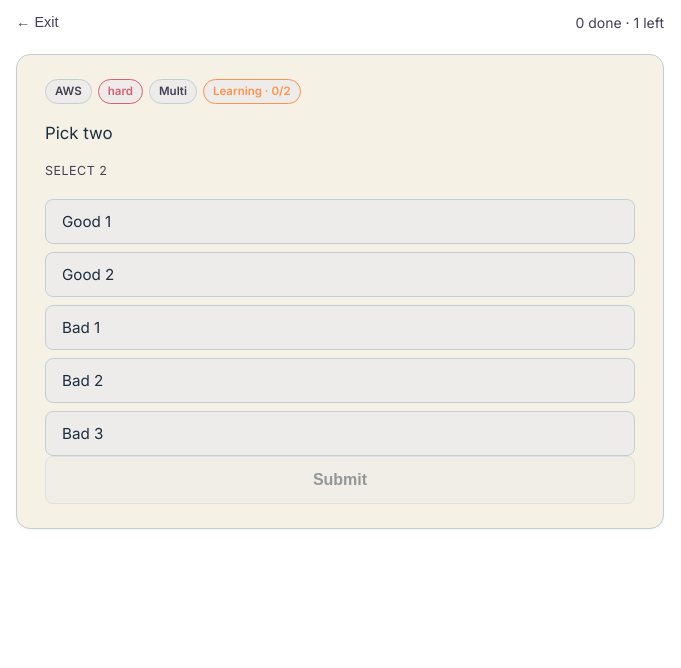
Test: MRCard › correct submission highlights answers and shows ✓ Correct
Click the button "Good 1": (87, 221) [45,199,635,244]
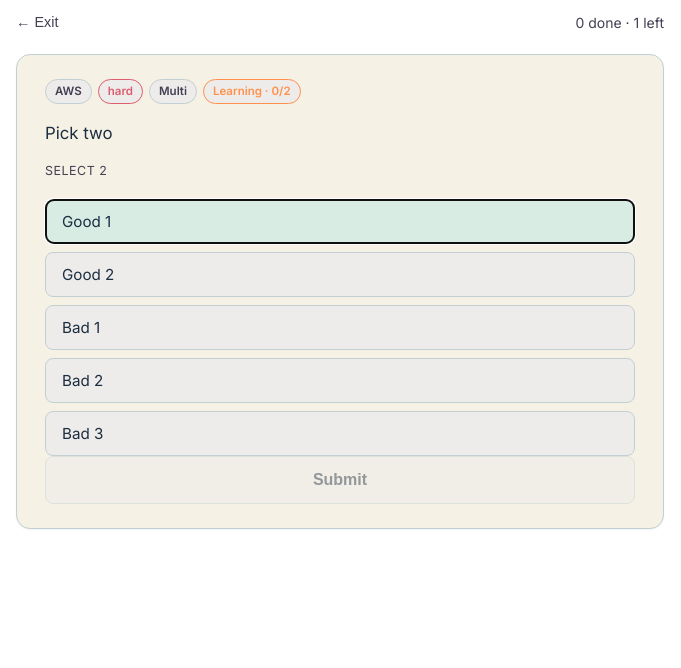
Click the button "Good 2": (88, 274) [45,252,635,297]
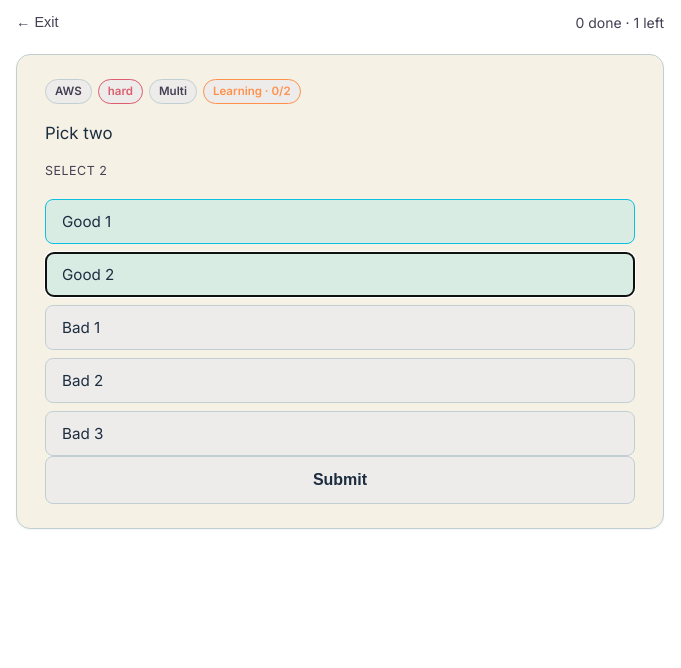
Click the button "Submit": (340, 480) [45,456,635,504]
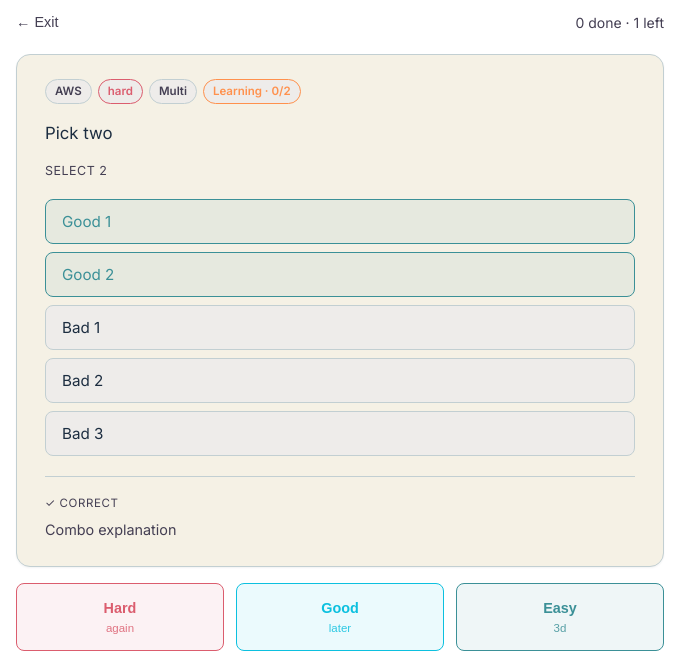
Now the text "✓ Correct" is shown, box [45,496,118,510]
